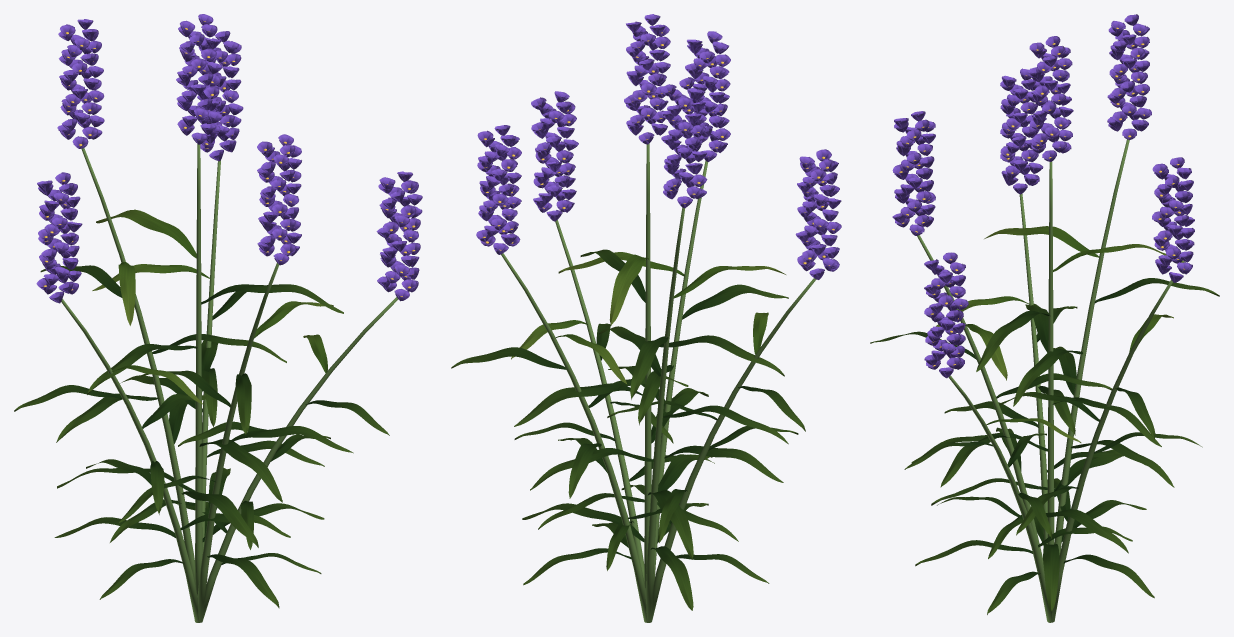
Rendered from lavender-09.glb.
The picture shows the model from 3 angles, left to right: view 1: azimuth 30°, elevation 25°; view 2: azimuth 150°, elevation 25°; view 3: azimuth 270°, elevation 25°; orthographic projection. The views are drawn at different scales.
Parts seen in each view (by area): view 1: lavender_stage_09_lavender_petal.016, lavender_stage_09_leaf_veins.016, lavender_stage_09_stem_fibres.016, lavender_stage_09_young_leaf.016; view 2: lavender_stage_09_lavender_petal.016, lavender_stage_09_leaf_veins.016, lavender_stage_09_stem_fibres.016, lavender_stage_09_young_leaf.016; view 3: lavender_stage_09_lavender_petal.016, lavender_stage_09_leaf_veins.016, lavender_stage_09_stem_fibres.016, lavender_stage_09_young_leaf.016, lavender_stage_09_pollen_granules.016.
Part boxes in pixels (left/top/right/bottom): lavender_stage_09_lavender_petal.016: left=36, top=14, right=422, bottom=303; lavender_stage_09_leaf_veins.016: left=14, top=265, right=389, bottom=608; lavender_stage_09_stem_fibres.016: left=61, top=144, right=398, bottom=622; lavender_stage_09_young_leaf.016: left=92, top=209, right=333, bottom=404; lavender_stage_09_lavender_petal.016: left=476, top=14, right=841, bottom=279; lavender_stage_09_leaf_veins.016: left=451, top=249, right=805, bottom=610; lavender_stage_09_stem_fibres.016: left=501, top=143, right=816, bottom=622; lavender_stage_09_young_leaf.016: left=511, top=252, right=785, bottom=384; lavender_stage_09_lavender_petal.016: left=892, top=14, right=1194, bottom=378; lavender_stage_09_leaf_veins.016: left=870, top=278, right=1219, bottom=614; lavender_stage_09_stem_fibres.016: left=917, top=139, right=1172, bottom=622; lavender_stage_09_young_leaf.016: left=936, top=226, right=1185, bottom=442; lavender_stage_09_pollen_granules.016: left=899, top=27, right=1184, bottom=366.
Size of the model in its own units: 0.393 by 0.6573 by 0.3596.
5 materials, 3 textured.
